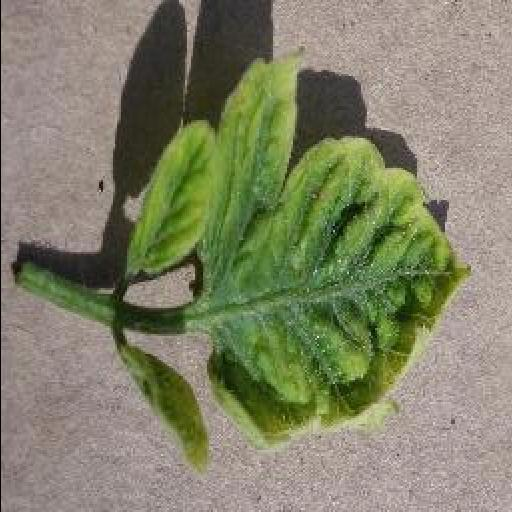disease_tomato: (204, 64, 474, 450), (122, 117, 224, 279), (116, 353, 212, 475)
